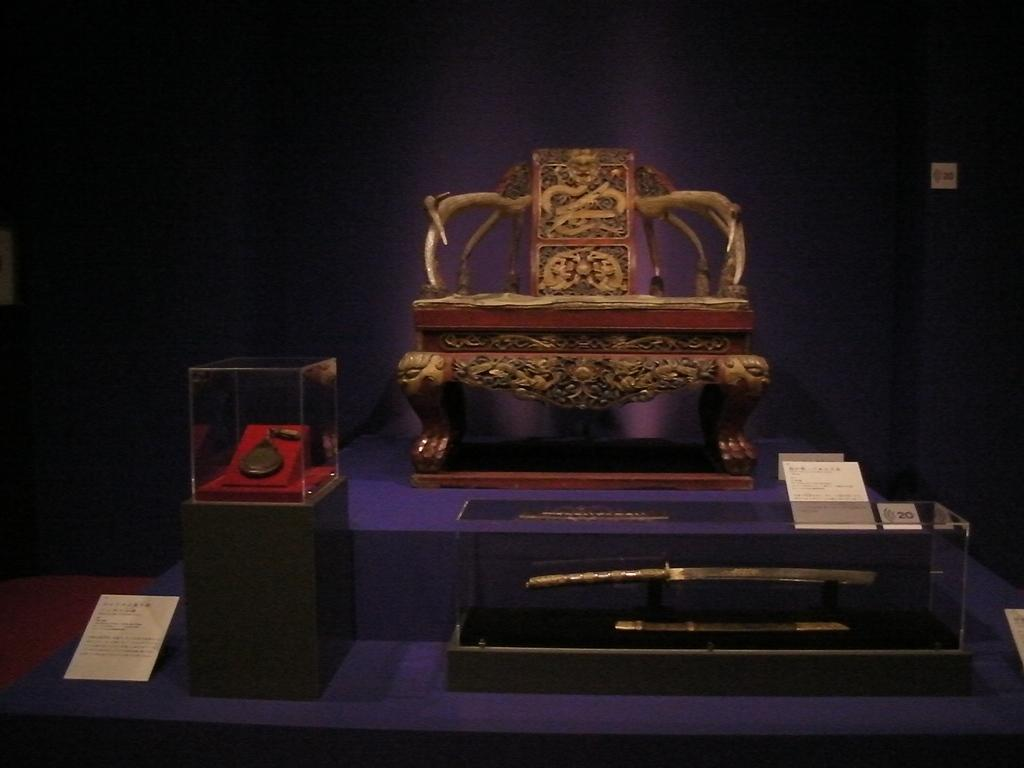Chair: (396, 145, 778, 484)
